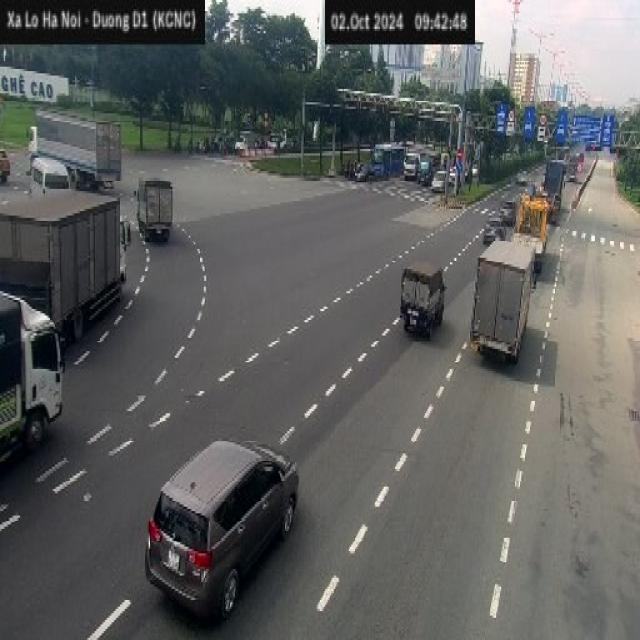car: (144, 436, 298, 622)
truck: (0, 187, 129, 342), (0, 289, 65, 467), (469, 236, 536, 362), (27, 111, 122, 191), (400, 262, 445, 338), (134, 176, 172, 242)
